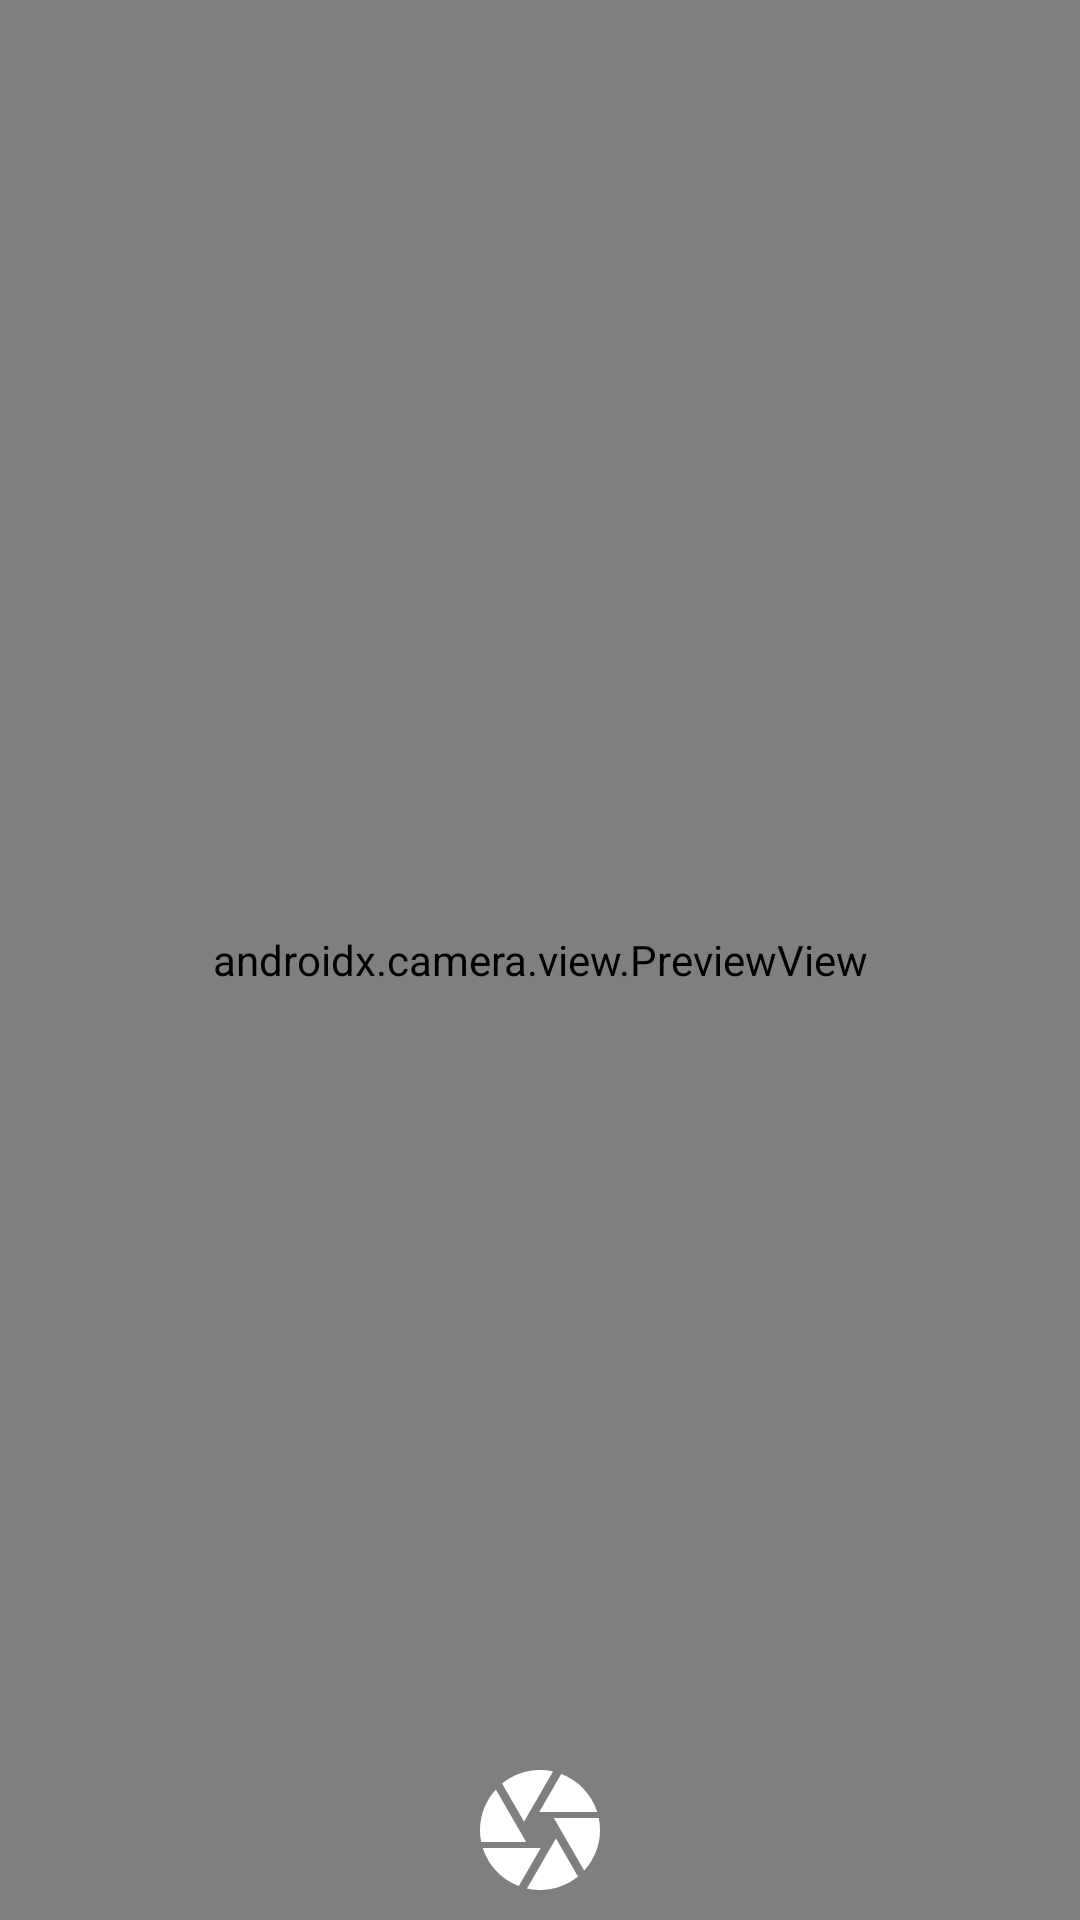

Where icons sit on this 1080*1920 app screen, as box=[x1, y1, x2, y2]:
make photo: box=[480, 1770, 600, 1890]
